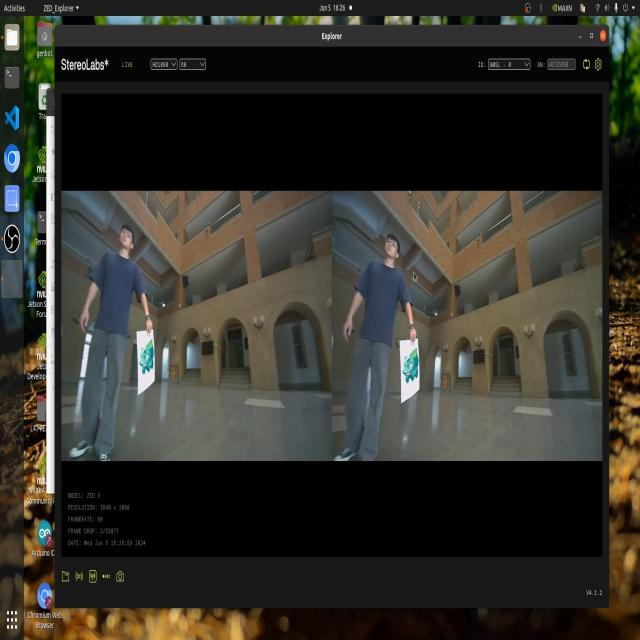green: (138, 336, 162, 388), (410, 352, 424, 388)
